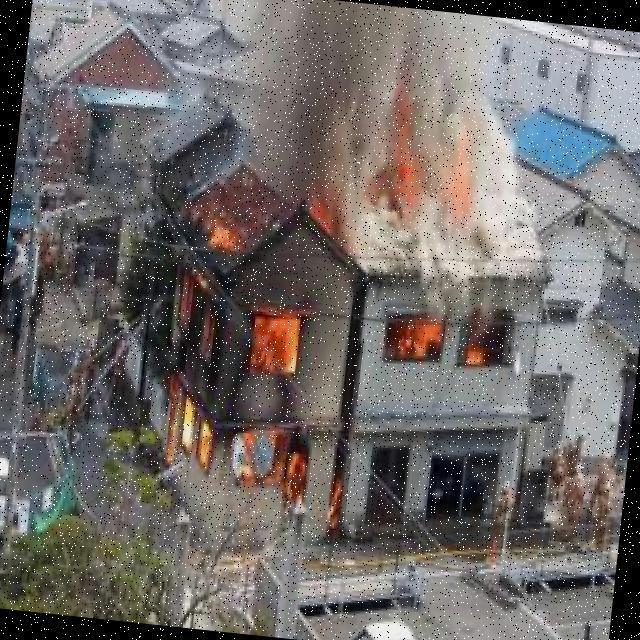Fire: (143, 190, 340, 519), (364, 116, 481, 222), (389, 308, 511, 378)
